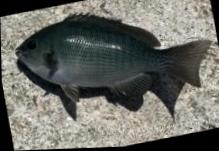fish: (14, 13, 211, 113)
